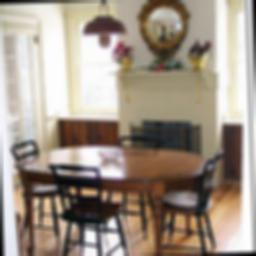Puerta: (4, 27, 49, 186)
